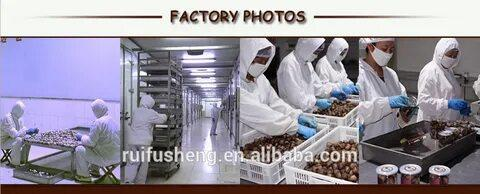hairnet: (237, 37, 277, 66), (83, 95, 118, 123), (292, 37, 327, 60), (13, 98, 25, 123), (335, 38, 346, 63)
mask: (368, 40, 401, 71), (441, 47, 465, 69), (248, 60, 271, 79), (305, 48, 323, 64)
